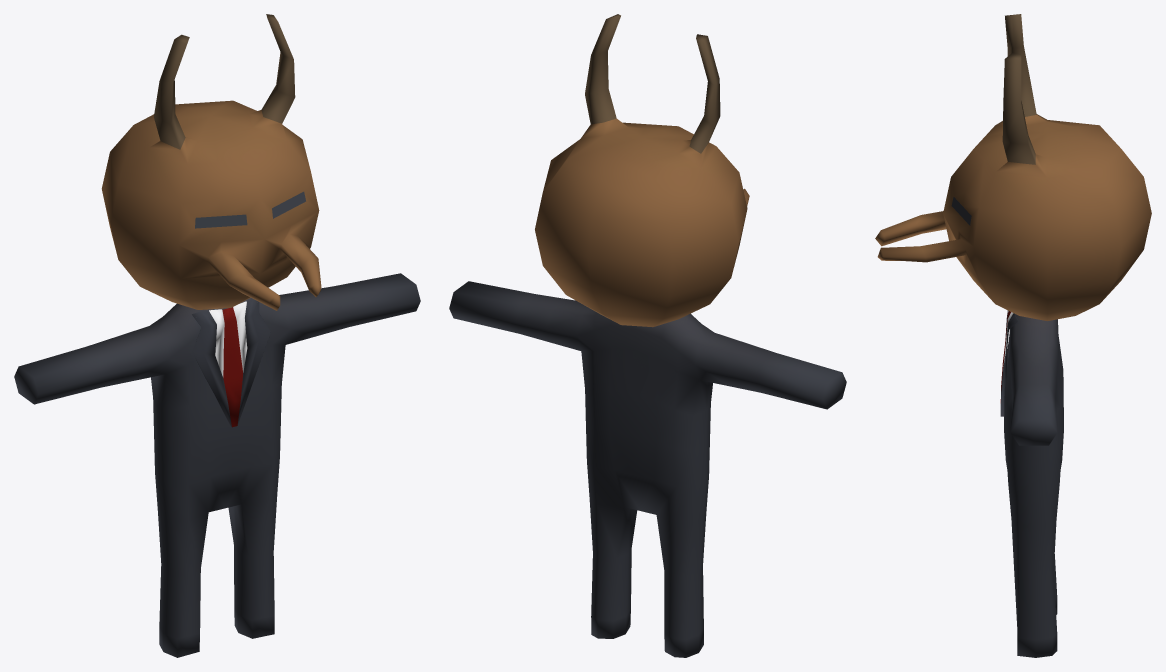
File: Enemy Horns.fbx
The picture shows the model from 3 angles, left to right: view 1: azimuth 30°, elevation 25°; view 2: azimuth 150°, elevation 25°; view 3: azimuth 270°, elevation 25°; orthographic projection. The views are drawn at different scales.
Visible parts, largest first — view 1: Character 180.003; view 2: Character 180.003; view 3: Character 180.003.
Boxes of the visible parts, x1,y1,x2,y2 form: Character 180.003: (14, 14, 420, 657); Character 180.003: (449, 14, 846, 657); Character 180.003: (875, 14, 1151, 657).
Size of the model in its own units: 224 by 348 by 146.
